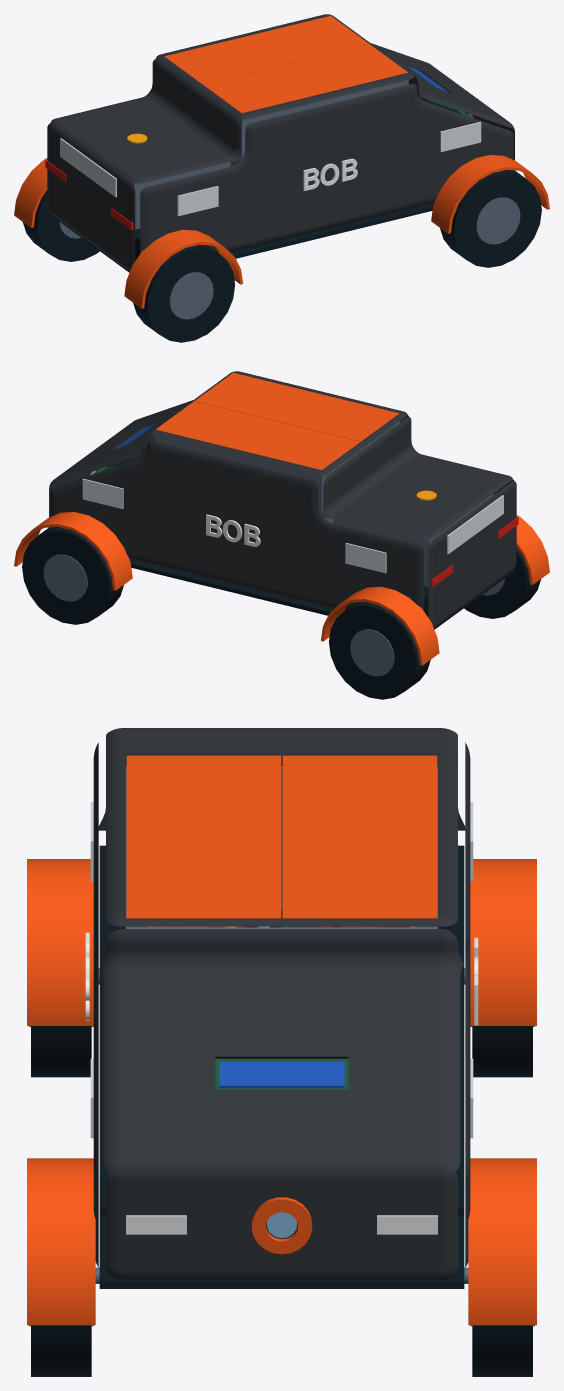
File: bob-v3.glb
The picture shows the model from 3 angles, top to bottom: view 1: azimuth 30°, elevation 25°; view 2: azimuth 150°, elevation 25°; view 3: azimuth 270°, elevation 25°; orthographic projection. The views are drawn at different scales.
Visible parts, largest first — view 1: Outer shell, Hangar door left, Hangar door right, Tyre front right, Tyre rear right, Fender rear right, Fender front right, Tyre rear left, Lower plate, Hub rear right, Hub front right, Drone hangar (+6 smaller); view 2: Outer shell, Hangar door right, Hangar door left, Tyre front left, Tyre rear left, Fender rear left, Fender front left, Tyre rear right, Lower plate, Hub rear left, Hub front left, Drone hangar (+6 smaller); view 3: Outer shell, Hangar door left, Hangar door right, Fender front right, Fender front left, Fender rear left, Fender rear right, Upper plate, Lower plate, LCD screen, Tyre front right, Tyre front left (+7 smaller).
Part boxes in pixels (bbox=[...]): Outer shell: bbox=[47, 14, 514, 271]; Hangar door left: bbox=[164, 15, 369, 84]; Hangar door right: bbox=[203, 44, 408, 113]; Tyre front right: bbox=[440, 170, 541, 267]; Tyre rear right: bbox=[133, 244, 234, 342]; Fender rear right: bbox=[124, 229, 242, 308]; Fender front right: bbox=[431, 155, 549, 233]; Tyre rear left: bbox=[23, 190, 99, 261]; Lower plate: bbox=[50, 202, 434, 272]; Hub rear right: bbox=[169, 272, 213, 319]; Hub front right: bbox=[476, 197, 520, 244]; Drone hangar: bbox=[164, 64, 408, 166]; Outer shell: bbox=[49, 371, 516, 628]; Hangar door right: bbox=[194, 372, 399, 441]; Hangar door left: bbox=[155, 401, 360, 470]; Tyre front left: bbox=[22, 527, 123, 624]; Tyre rear left: bbox=[329, 601, 430, 699]; Fender rear left: bbox=[321, 586, 439, 665]; Fender front left: bbox=[14, 512, 132, 590]; Tyre rear right: bbox=[464, 547, 540, 618]; Lower plate: bbox=[129, 559, 513, 629]; Hub rear left: bbox=[350, 629, 394, 676]; Hub front left: bbox=[43, 554, 87, 601]; Drone hangar: bbox=[155, 421, 399, 523]; Outer shell: bbox=[93, 728, 470, 1280]; Hangar door left: bbox=[282, 755, 437, 918]; Hangar door right: bbox=[126, 755, 281, 918]; Fender front right: bbox=[27, 1158, 95, 1325]; Fender front left: bbox=[468, 1158, 536, 1325]; Fender rear left: bbox=[470, 859, 536, 1025]; Fender rear right: bbox=[27, 859, 93, 1025]; Upper plate: bbox=[99, 845, 464, 1215]; Lower plate: bbox=[99, 1215, 464, 1288]; LCD screen: bbox=[219, 1061, 344, 1087]; Tyre front right: bbox=[31, 1325, 91, 1376]; Tyre front left: bbox=[472, 1325, 532, 1376].
Size of the model in its own units: 0.466 by 0.2099 by 0.252.
